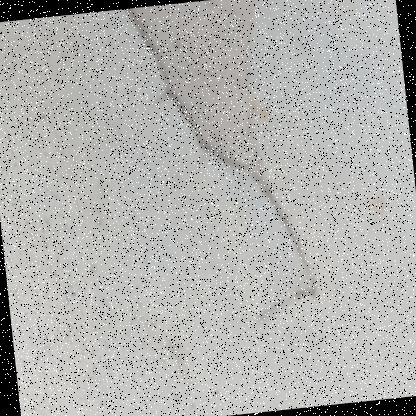Crack: (101, 0, 346, 372)
